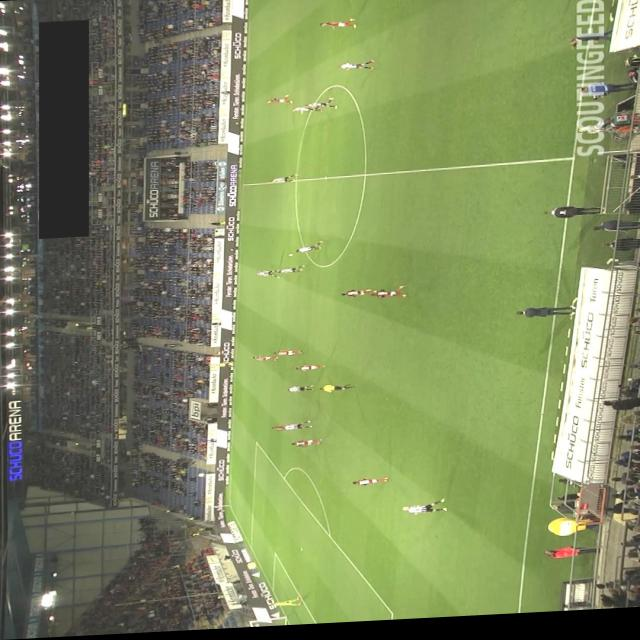goalkeeper: (270, 597, 302, 609)
player: (402, 502, 448, 519), (371, 289, 407, 303), (336, 63, 376, 75), (304, 100, 338, 114), (318, 21, 356, 33), (278, 422, 312, 433), (340, 292, 378, 301), (351, 480, 389, 489), (295, 243, 323, 255), (266, 96, 293, 107), (290, 108, 322, 117), (291, 441, 323, 450), (268, 176, 298, 185), (286, 387, 316, 395), (276, 268, 304, 276), (295, 367, 327, 374), (256, 272, 280, 281), (273, 351, 303, 358), (269, 427, 299, 434), (252, 357, 278, 364)
referee: (318, 387, 355, 396), (214, 362, 236, 369)
